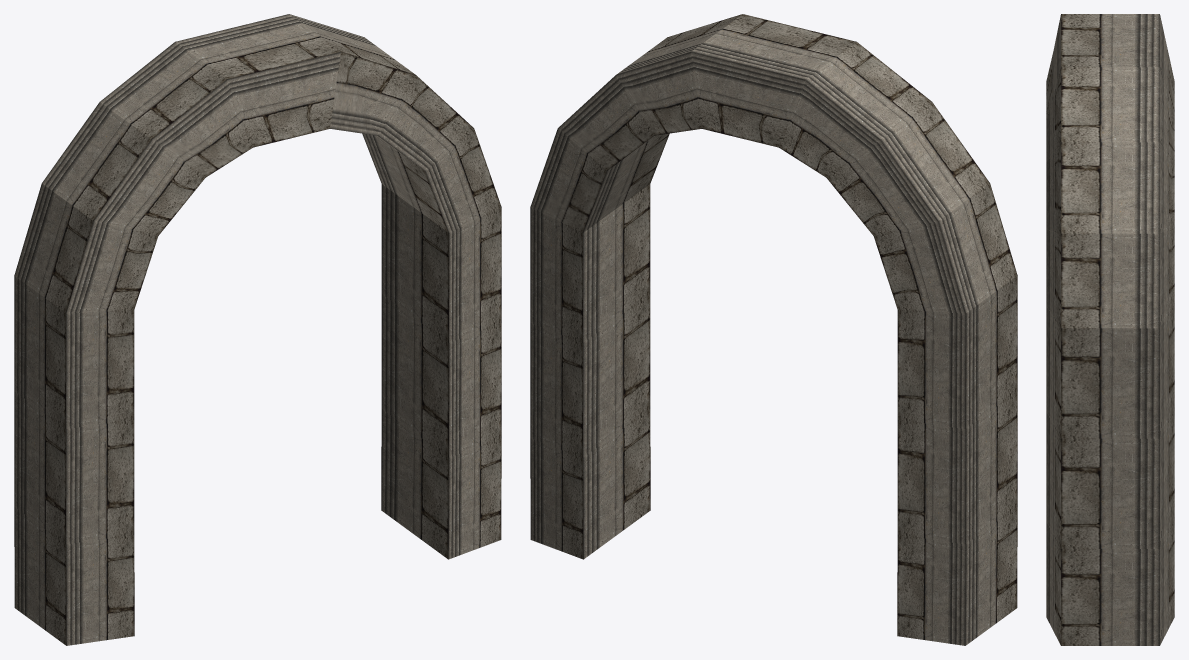
The model's file is DOOR.FBX.
The picture shows the model from 3 angles, left to right: view 1: azimuth 30°, elevation 25°; view 2: azimuth 150°, elevation 25°; view 3: azimuth 270°, elevation 25°; orthographic projection. The views are drawn at different scales.
Visible parts, largest first — view 1: Box002; view 2: Box002; view 3: Box002.
Boxes of the visible parts, x1,y1,x2,y2 form: Box002: (14,14,501,645); Box002: (530,14,1017,645); Box002: (1046,14,1174,645).
Bounding box in the file's own units: 51.4 × 59.43 × 13.74.
